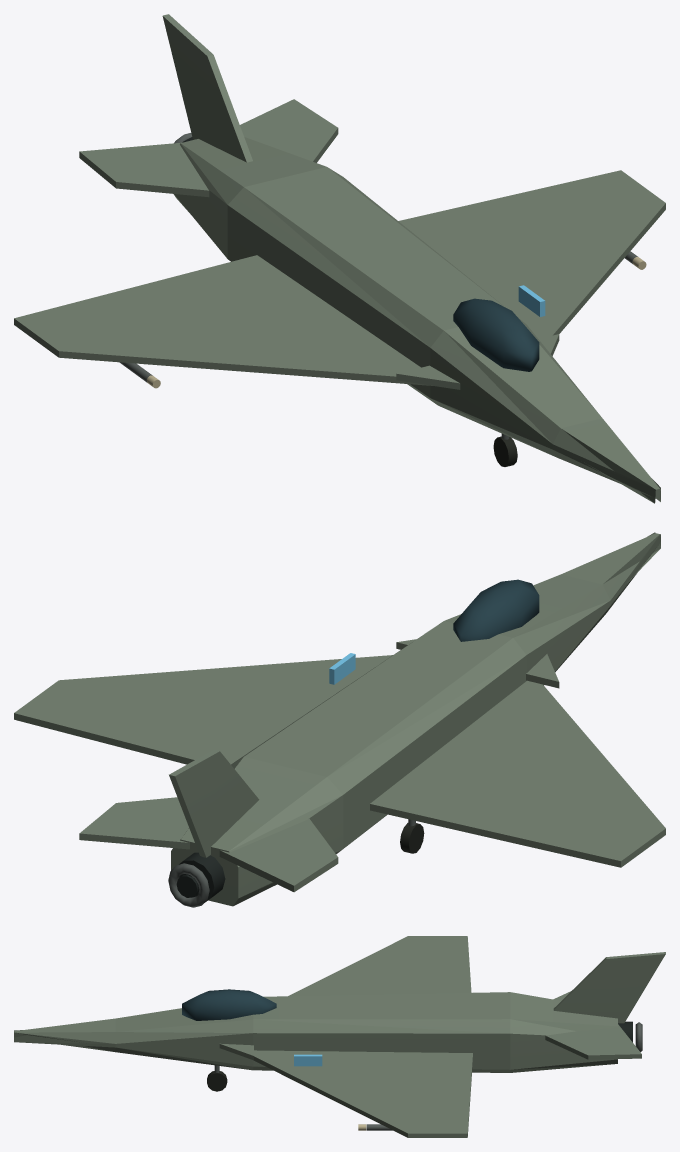
Rendered from bomber-lod.glb.
The picture shows the model from 3 angles, top to bottom: view 1: azimuth 30°, elevation 25°; view 2: azimuth 150°, elevation 25°; view 3: azimuth 270°, elevation 25°; orthographic projection. The views are drawn at different scales.
Parts seen in each view (by area): view 1: armor, equipment; view 2: armor, equipment (×2); view 3: armor, equipment (×2), marking.
Boxes of the visible parts, x1,y1,x2,y2 form: armor: (14,14,665,503); equipment: (119,133,646,388); armor: (14,532,665,906); equipment (×2): (168,579,539,907); armor: (14,936,665,1137); equipment (×2): (182,989,642,1130); marking: (294,1054,322,1066).
Bounding box in the file's own units: 8.2 × 2.64 × 11.45.
